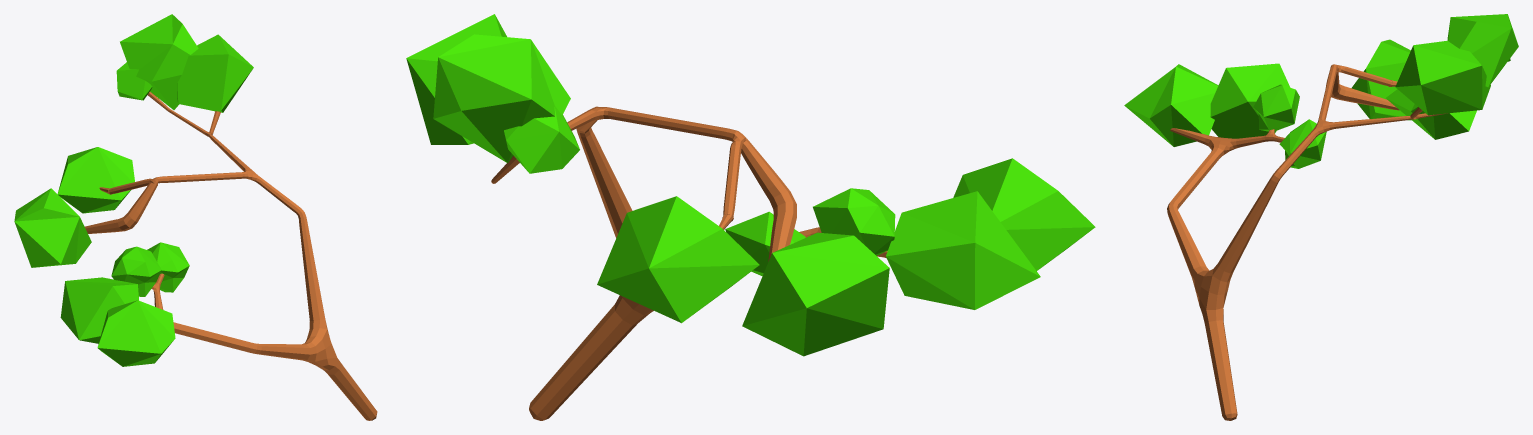
Rendered from Tree1.fbx.
The picture shows the model from 3 angles, left to right: view 1: azimuth 30°, elevation 25°; view 2: azimuth 150°, elevation 25°; view 3: azimuth 270°, elevation 25°; orthographic projection. The views are drawn at different scales.
Visible parts, largest first — view 1: Cube, Icosphere.008, Icosphere.006, Icosphere, Icosphere.005, Icosphere.007, Icosphere.001, Icosphere.002, Icosphere.003, Icosphere.004; view 2: Icosphere.008, Cube, Icosphere.007, Icosphere.001, Icosphere.006, Icosphere, Icosphere.002, Icosphere.005, Icosphere.004, Icosphere.003; view 3: Cube, Icosphere.005, Icosphere, Icosphere.001, Icosphere.006, Icosphere.008, Icosphere.002, Icosphere.007, Icosphere.003.
Boxes of the visible parts, x1,y1,x2,y2 form: Cube: [85, 92, 377, 420]; Icosphere.008: [14, 188, 91, 267]; Icosphere.006: [120, 14, 198, 109]; Icosphere: [97, 300, 175, 366]; Icosphere.005: [177, 34, 253, 112]; Icosphere.007: [57, 147, 134, 213]; Icosphere.001: [60, 277, 138, 343]; Icosphere.002: [111, 246, 161, 296]; Icosphere.003: [147, 242, 189, 292]; Icosphere.004: [116, 62, 152, 100]; Icosphere.008: [742, 232, 889, 356]; Cube: [491, 106, 887, 420]; Icosphere.007: [597, 196, 759, 323]; Icosphere.001: [886, 191, 1040, 309]; Icosphere.006: [433, 34, 570, 163]; Icosphere: [953, 158, 1095, 270]; Icosphere.002: [813, 188, 895, 255]; Icosphere.005: [406, 14, 506, 144]; Icosphere.004: [504, 106, 579, 173]; Icosphere.003: [725, 211, 805, 276]; Cube: [1167, 64, 1447, 420]; Icosphere.005: [1395, 40, 1490, 115]; Icosphere: [1124, 64, 1218, 146]; Icosphere.001: [1210, 63, 1290, 138]; Icosphere.006: [1447, 14, 1518, 87]; Icosphere.008: [1351, 39, 1411, 120]; Icosphere.002: [1253, 84, 1299, 131]; Icosphere.007: [1385, 89, 1476, 139]; Icosphere.003: [1279, 119, 1326, 168].
Bounding box in the file's own units: 394 × 406 × 403.
